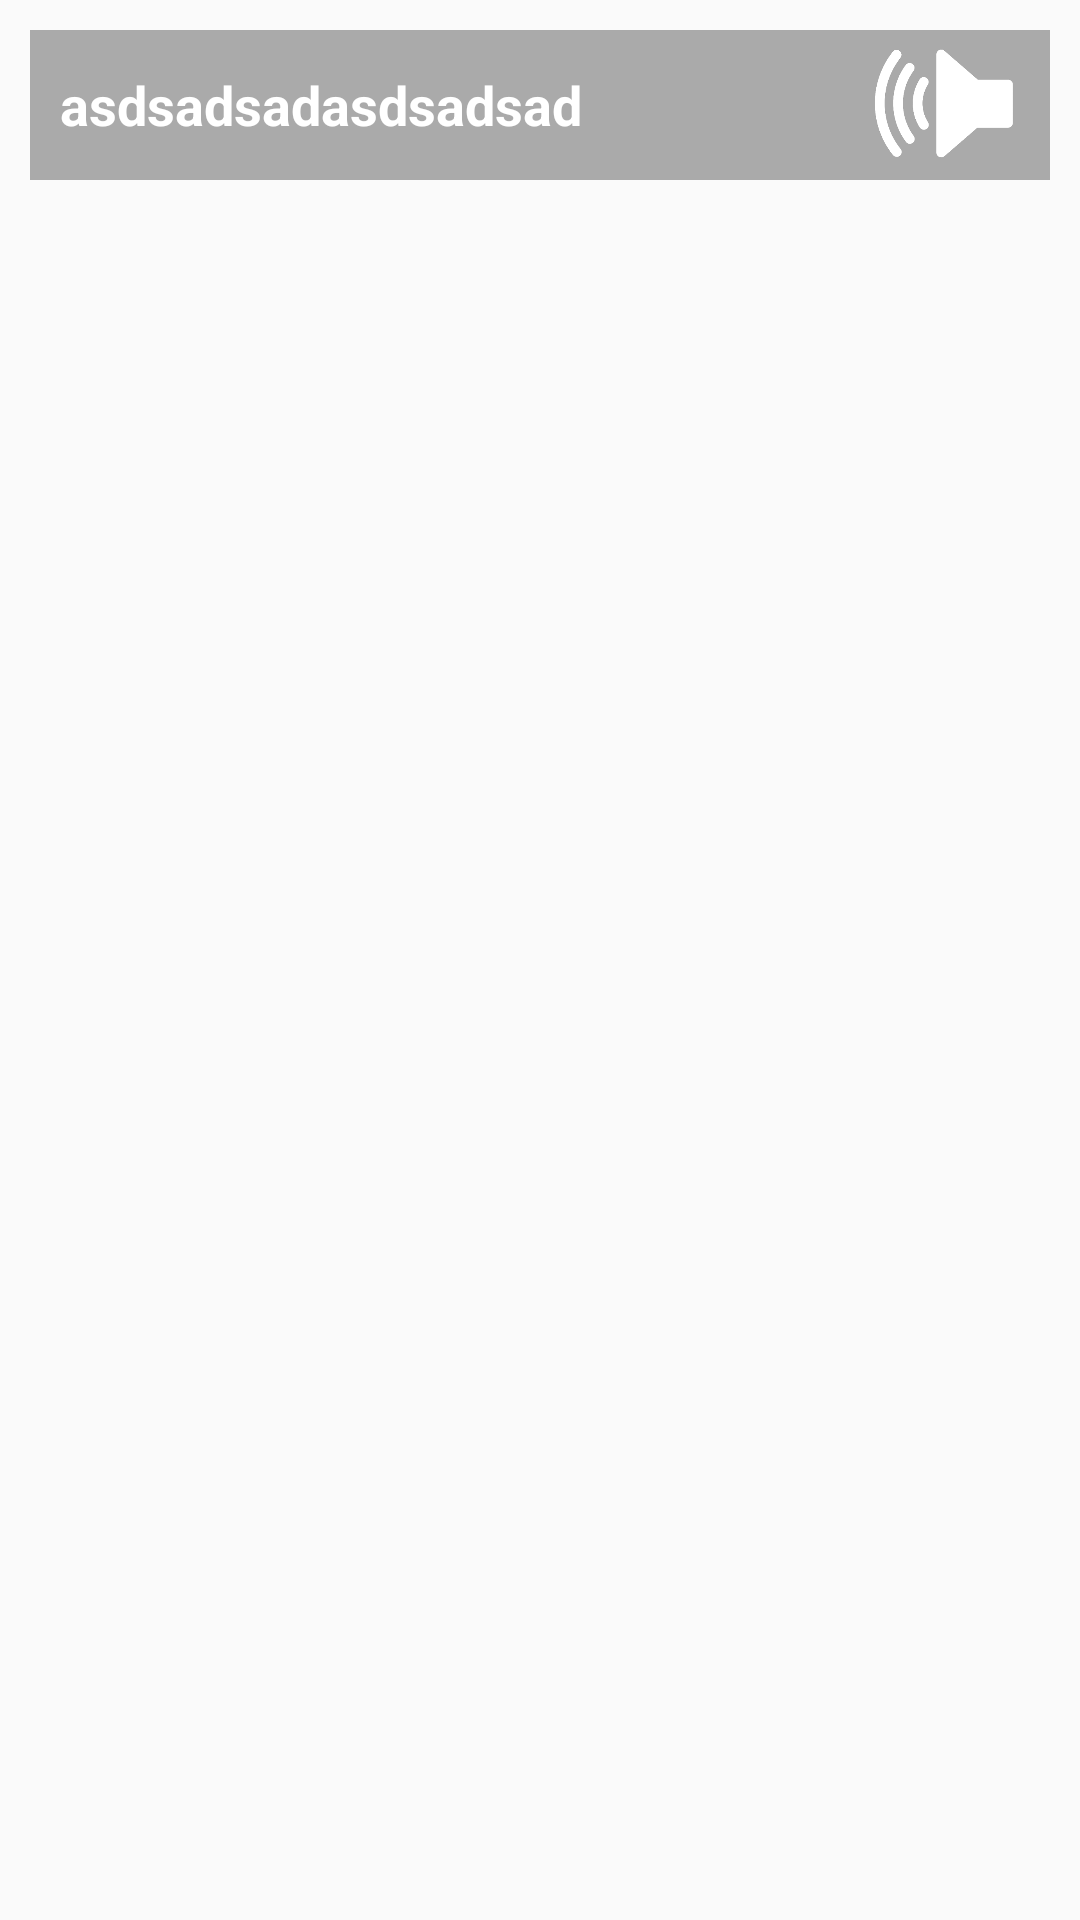

Where icons sit on this 1080×1920 app screen, as (x1, y1, x2, y2):
speaker: (875, 50, 1013, 157)
